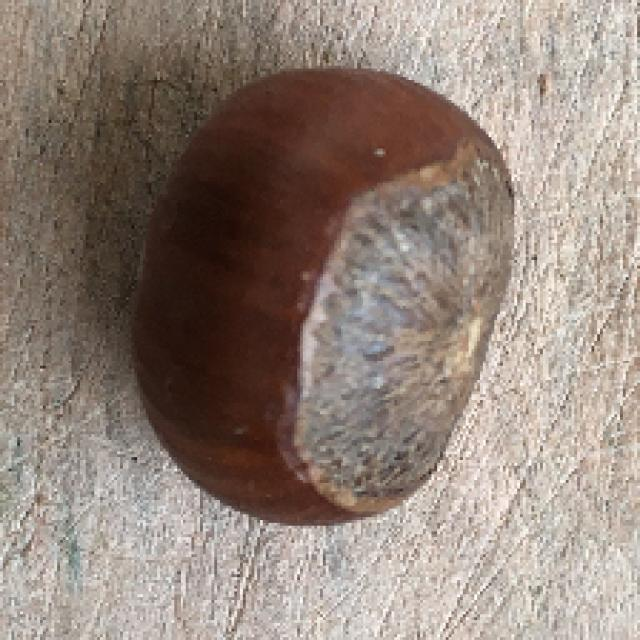damagedHazelnut: (142, 46, 516, 552)
